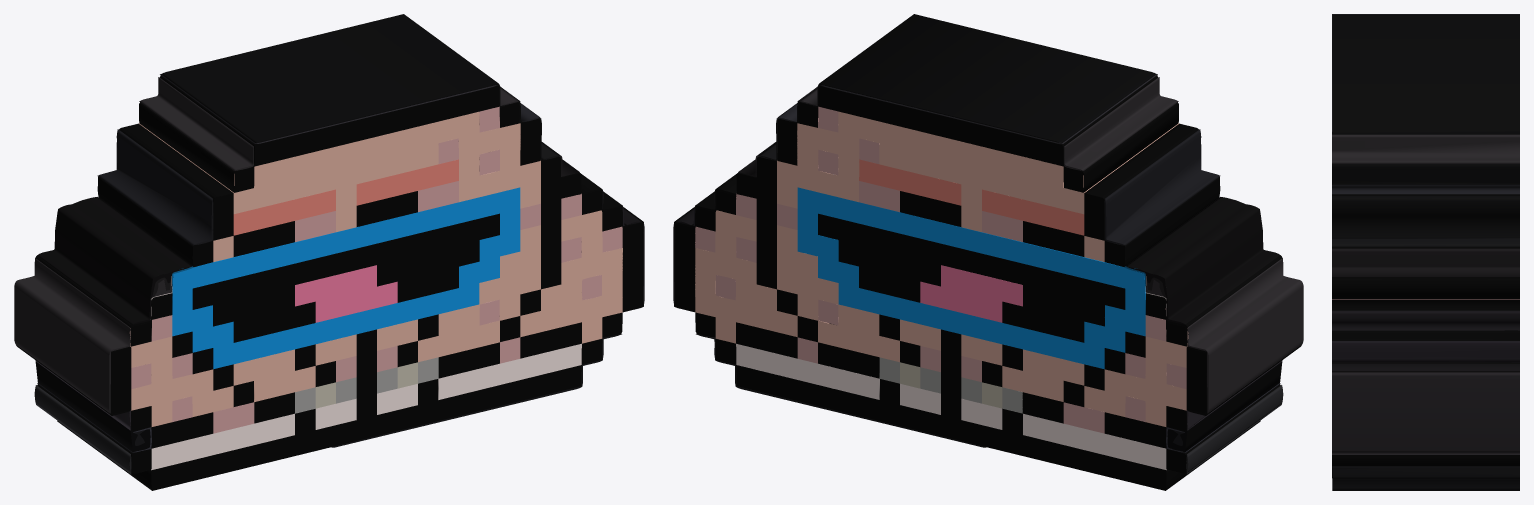
File: Toadz_4145.glb
3 renders of one model, left to right at view 1: azimuth 30°, elevation 25°; view 2: azimuth 150°, elevation 25°; view 3: azimuth 270°, elevation 25°, orthographic.
Parts seen in each view (by area): view 1: Curve; view 2: Curve; view 3: Curve.
Boxes of the visible parts, x1=… form: Curve: x1=14, y1=14, x2=644, y2=490; Curve: x1=673, y1=14, x2=1303, y2=490; Curve: x1=1332, y1=14, x2=1519, y2=490.
Size of the model in its own units: 3.25 by 1.88 by 1.
